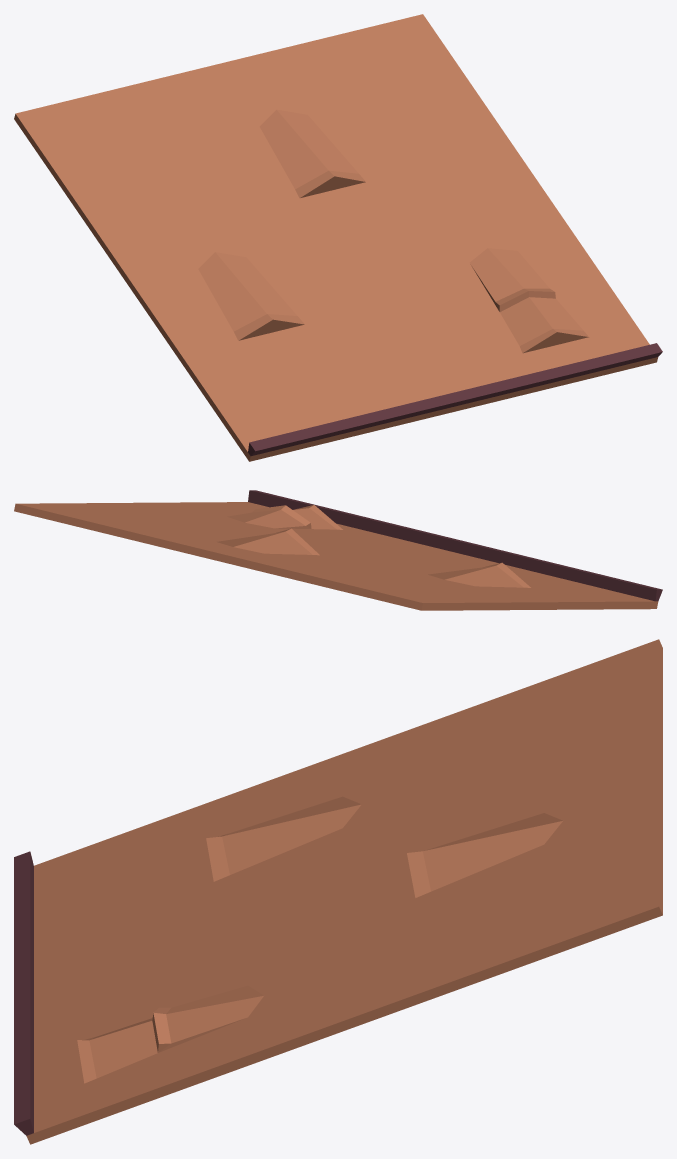
Rendered from empire-roof-big-3-edge-empire.glb.
3 renders of one model, top to bottom at view 1: azimuth 30°, elevation 25°; view 2: azimuth 150°, elevation 25°; view 3: azimuth 270°, elevation 25°, orthographic. The views are drawn at different scales.
Parts seen in each view (by area): view 1: SM_Roof_Big_3_Edge_Empire; view 2: SM_Roof_Big_3_Edge_Empire; view 3: SM_Roof_Big_3_Edge_Empire.
Boxes of the visible parts, left/top/right/bottom form: SM_Roof_Big_3_Edge_Empire: left=14, top=14, right=662, bottom=461; SM_Roof_Big_3_Edge_Empire: left=14, top=490, right=662, bottom=610; SM_Roof_Big_3_Edge_Empire: left=14, top=639, right=662, bottom=1144.
Size of the model in its own units: 3 by 1.25 by 3.08.
